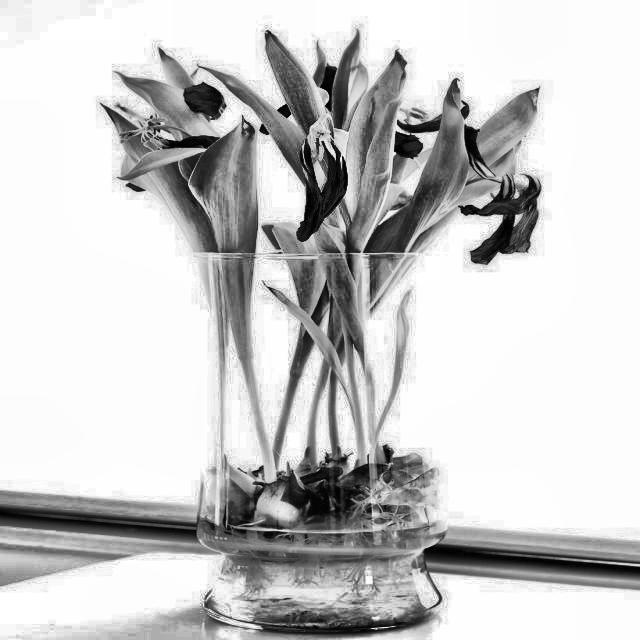plants: (88, 26, 546, 628)
